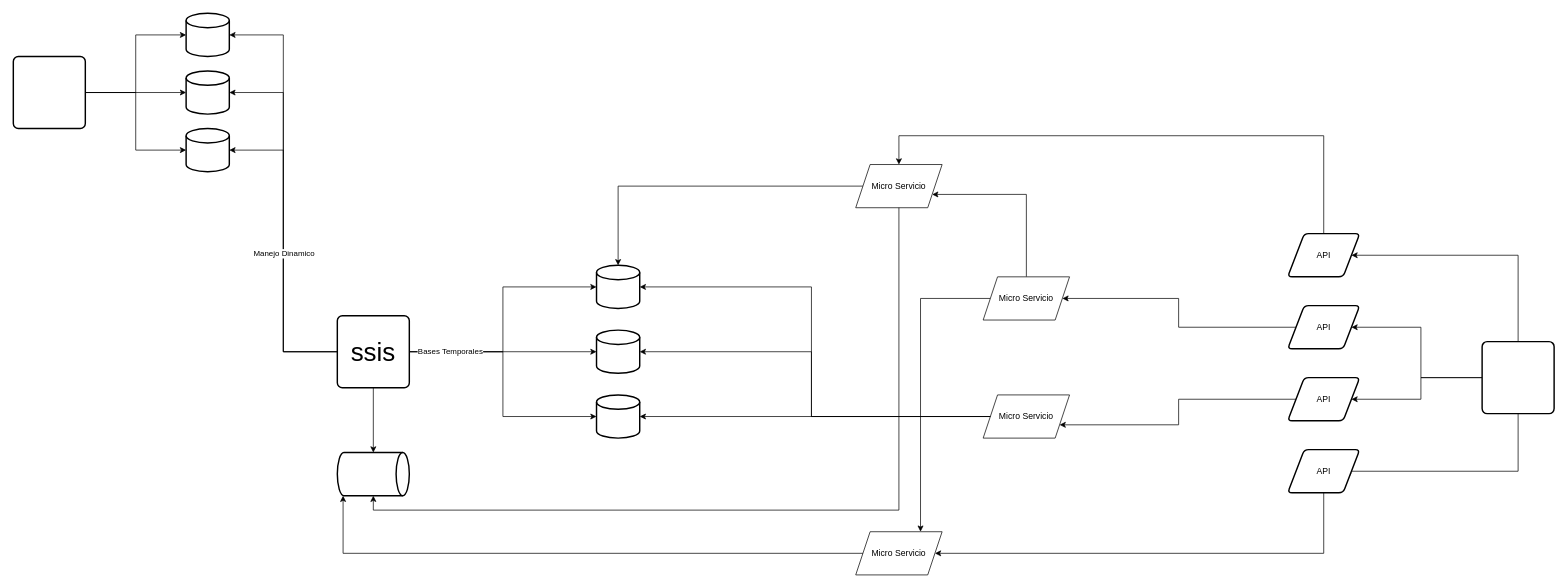
The diagram is 1567 pixels wide and 588 high, and some of its shapes have lost their labels. Here are the shapes that lost their labels. From the top down, the centre of each, then its label:
At pixel 49 92: "SAP".
At pixel 1517 377: "Cliente".
At pixel 373 473: "Informacion en tiempo real".
